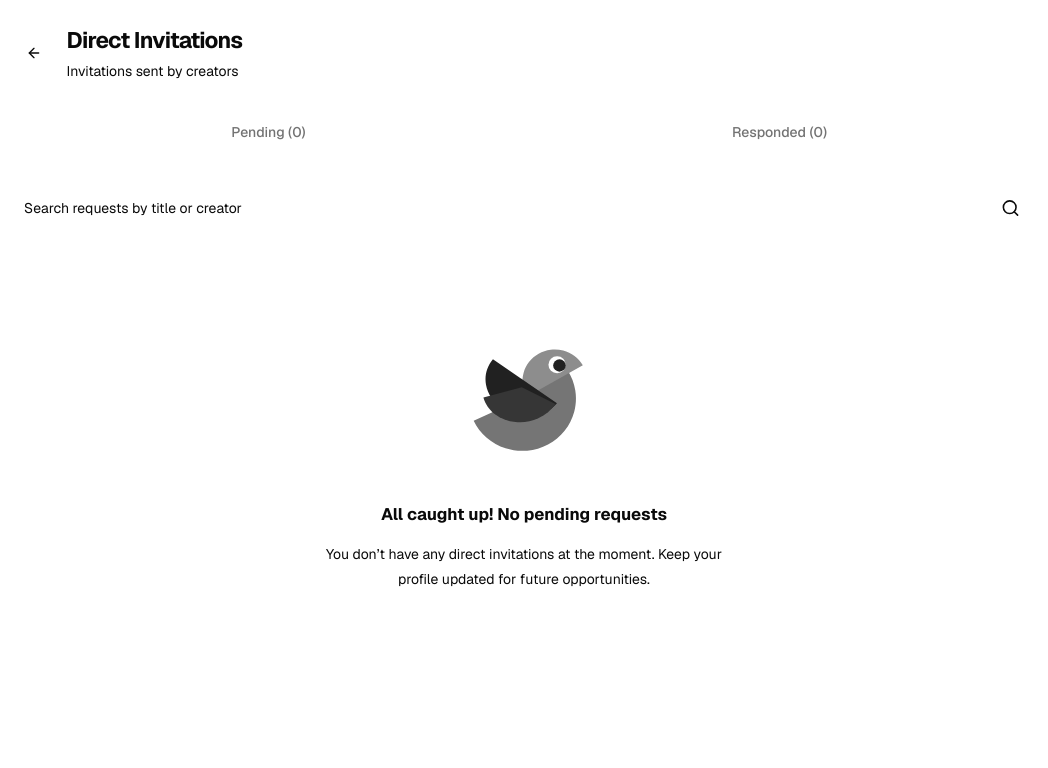
Test: edge states and failures › shows the pending empty state and a separate search-empty state
Expected: the heading "All caught up! No pending requests" is shown, top-left (381, 502), bottom-right (667, 526)
In the field: (524, 208) top-left (12, 184), bottom-right (1036, 232), type "unknown"
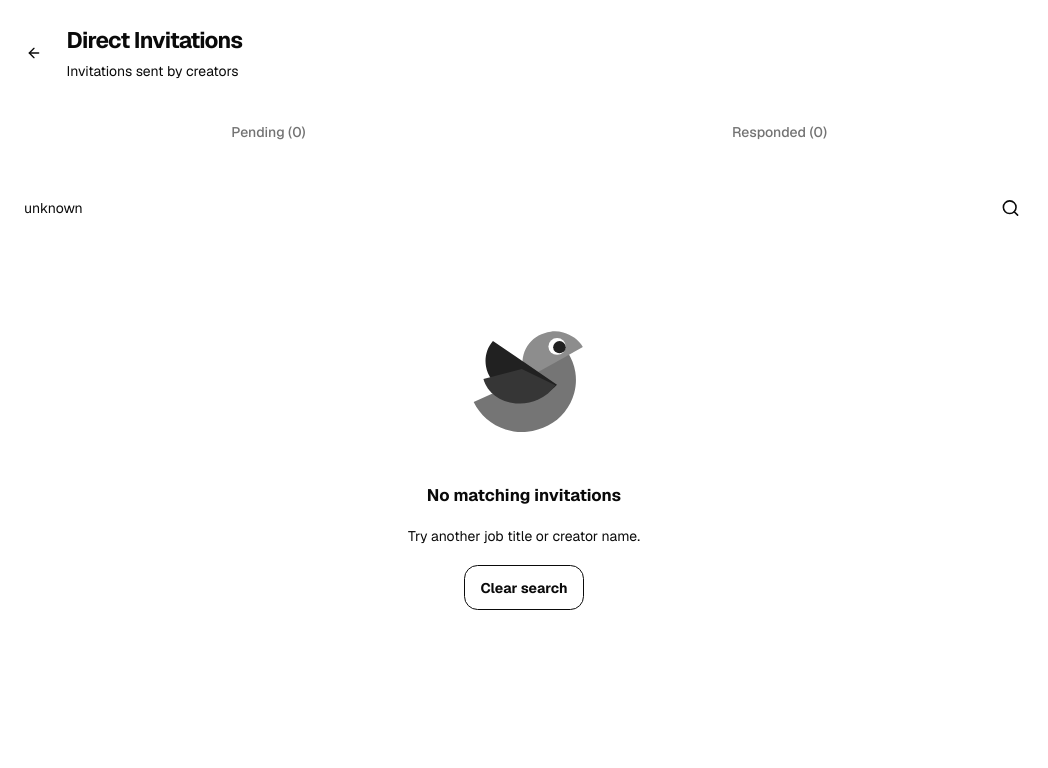
Expected: the heading "No matching invitations" is shown, top-left (427, 483), bottom-right (621, 508)
Click the button "Clear search": (524, 588) top-left (464, 565), bottom-right (584, 610)
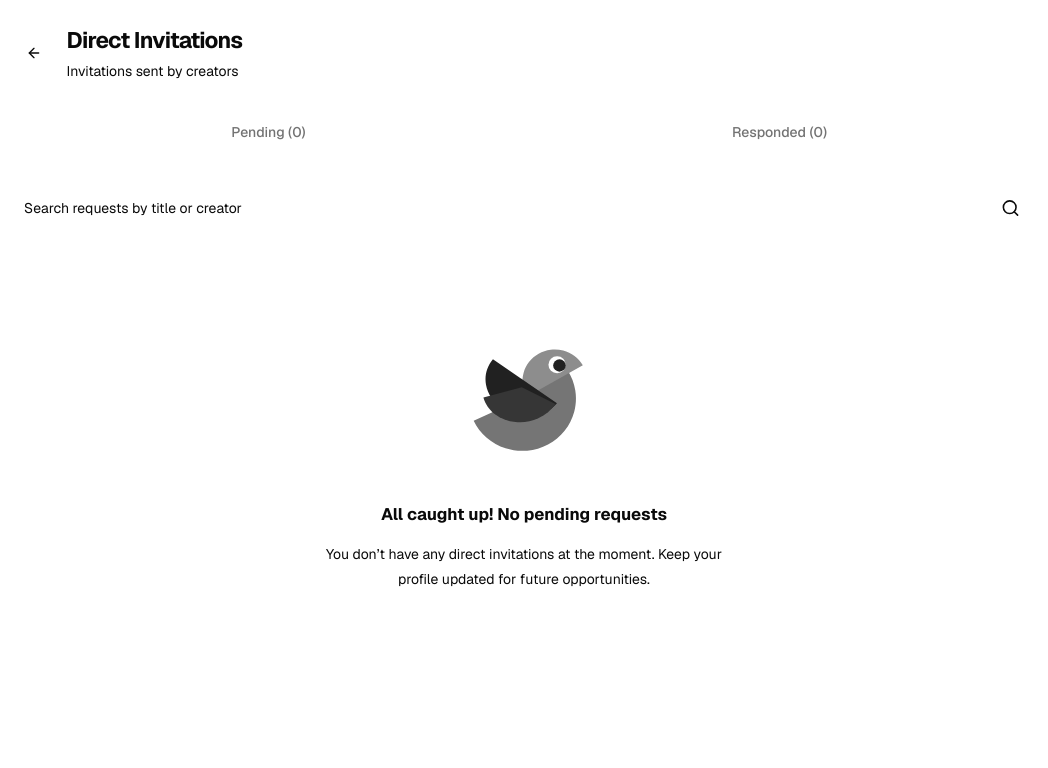
Expected: the field is empty, top-left (12, 184), bottom-right (1036, 232)
